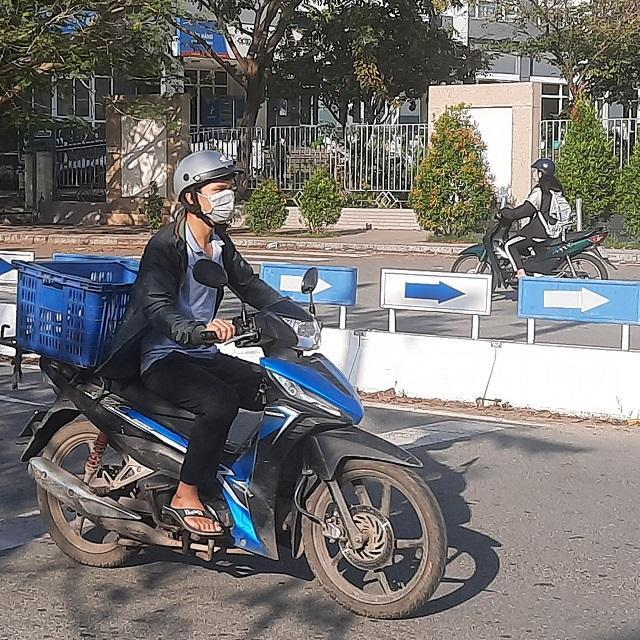Helmet: (168, 152, 244, 224), (528, 155, 558, 181)
